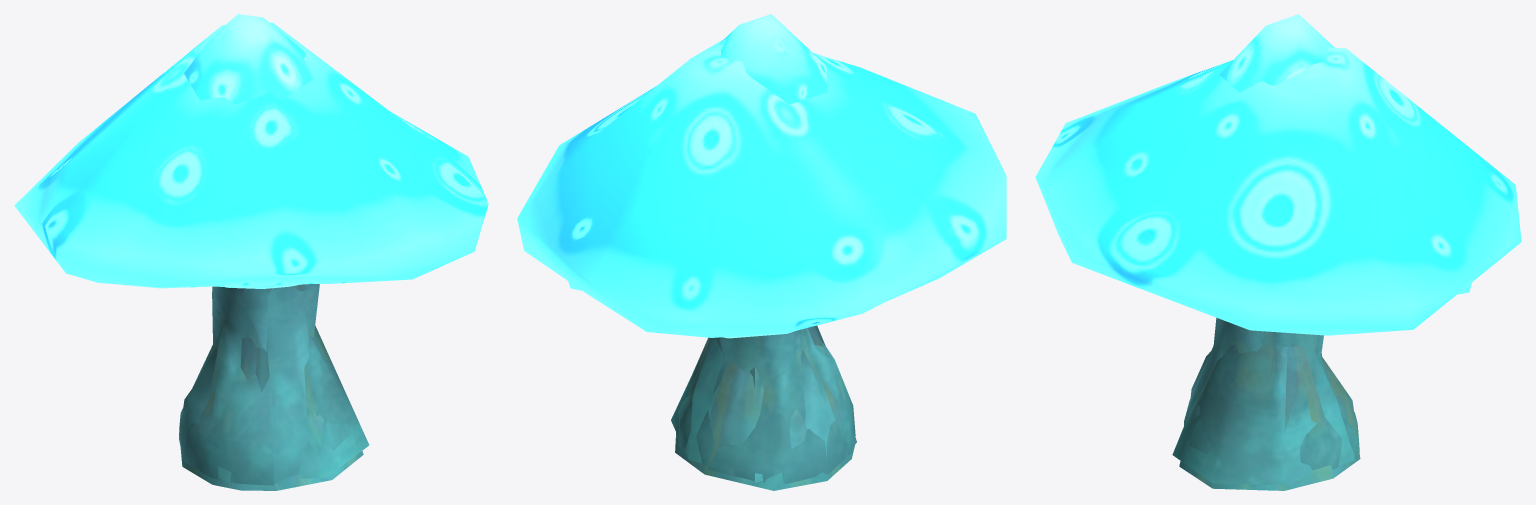
Rendered from cave_shrooms.fbx.
3 views of the same model, side by side, from view 1: azimuth 30°, elevation 25°; view 2: azimuth 150°, elevation 25°; view 3: azimuth 270°, elevation 25° (orthographic). The views are drawn at different scales.
Visible parts, largest first — view 1: defaultMaterial, defaultMaterial.004, defaultMaterial.002; view 2: defaultMaterial, defaultMaterial.004, defaultMaterial.002; view 3: defaultMaterial, defaultMaterial.002, defaultMaterial.004.
Part boxes in pixels (bbox=[...]): defaultMaterial: bbox=[14, 22, 488, 481]; defaultMaterial.004: bbox=[179, 284, 350, 485]; defaultMaterial.002: bbox=[180, 14, 363, 490]; defaultMaterial: bbox=[517, 40, 1006, 482]; defaultMaterial.004: bbox=[567, 276, 855, 483]; defaultMaterial.002: bbox=[675, 14, 855, 490]; defaultMaterial: bbox=[1035, 47, 1521, 485]; defaultMaterial.002: bbox=[1179, 14, 1360, 490]; defaultMaterial.004: bbox=[1184, 277, 1473, 470].
Bounding box in the file's own units: 2.1 × 2.09 × 2.09.
2 materials, 2 textured.
